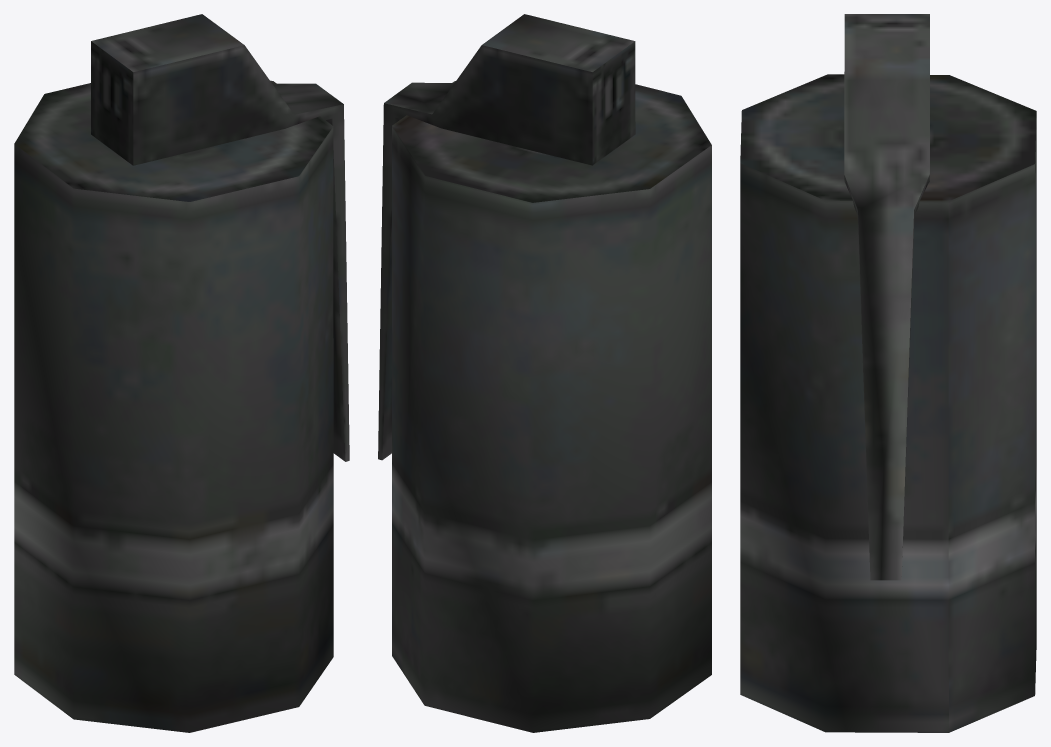
Rendered from Pickup_WeaponSgd01.glb.
The picture shows the model from 3 angles, left to right: view 1: azimuth 30°, elevation 25°; view 2: azimuth 150°, elevation 25°; view 3: azimuth 270°, elevation 25°; orthographic projection.
Visible parts, largest first — view 1: pk_weapon_sgd01; view 2: pk_weapon_sgd01; view 3: pk_weapon_sgd01.
Boxes of the visible parts, x1,y1,x2,y2 form: pk_weapon_sgd01: (14, 14, 349, 732); pk_weapon_sgd01: (378, 14, 711, 732); pk_weapon_sgd01: (740, 14, 1036, 732).
Size of the model in its own units: 0.133 by 0.2668 by 0.1146.
1 material, 1 textured.
